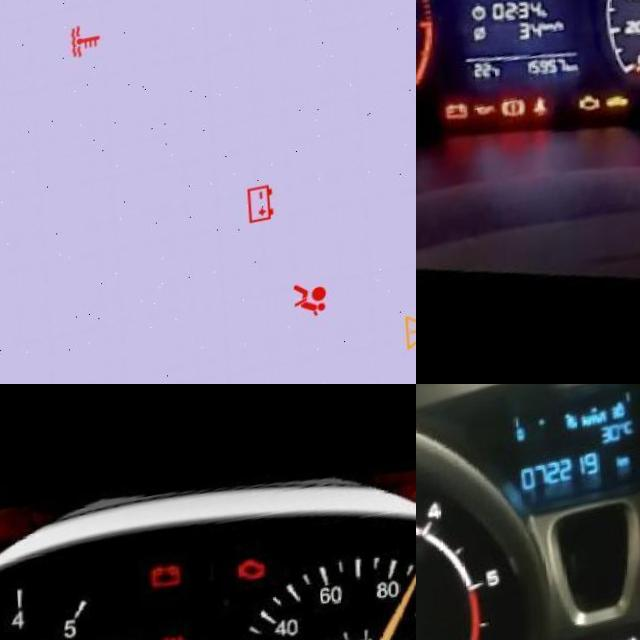Seat Belt: (515, 106, 534, 129)
